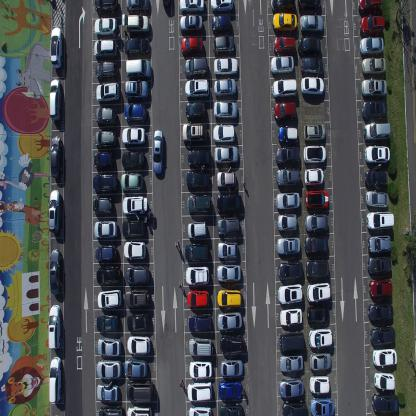car: (372, 390, 400, 414), (48, 355, 62, 403), (126, 379, 153, 402), (48, 77, 62, 121), (48, 303, 61, 350), (184, 77, 210, 100), (49, 247, 61, 296), (366, 209, 394, 230), (277, 282, 302, 305), (307, 281, 332, 304), (278, 330, 304, 352), (216, 192, 242, 214), (185, 168, 211, 190), (275, 166, 301, 188), (368, 302, 394, 324), (124, 288, 150, 310), (96, 288, 122, 310), (48, 189, 61, 233), (369, 325, 396, 346), (271, 12, 298, 33), (363, 144, 390, 165), (152, 128, 164, 175), (363, 121, 391, 141), (216, 214, 240, 237), (216, 260, 241, 282), (303, 234, 328, 256), (275, 190, 300, 212), (182, 122, 207, 144), (278, 259, 303, 281), (275, 145, 300, 167), (93, 37, 118, 59), (183, 55, 208, 77), (279, 378, 305, 399), (96, 358, 122, 379), (186, 380, 212, 401), (125, 57, 151, 78), (362, 100, 388, 121), (304, 190, 328, 212), (125, 263, 149, 285), (213, 99, 237, 121), (302, 144, 326, 166), (96, 264, 120, 286), (96, 81, 120, 103), (213, 77, 237, 99), (180, 34, 204, 56), (50, 25, 62, 69), (50, 134, 62, 178), (270, 54, 294, 76), (219, 332, 244, 353), (218, 379, 243, 400), (187, 147, 212, 168), (124, 79, 149, 100), (125, 12, 150, 33), (368, 278, 393, 299), (216, 286, 242, 306), (216, 309, 242, 329), (186, 192, 212, 212), (122, 194, 148, 214), (372, 347, 398, 367), (124, 36, 150, 56), (213, 56, 239, 76), (271, 78, 297, 98), (361, 78, 387, 98), (359, 14, 385, 34), (188, 310, 211, 332), (276, 235, 300, 256), (303, 213, 327, 234), (94, 219, 118, 240), (120, 171, 144, 192), (300, 75, 324, 96), (219, 357, 244, 377), (127, 333, 152, 353), (185, 262, 210, 282), (92, 172, 117, 192), (121, 126, 146, 146), (93, 16, 118, 36), (188, 336, 214, 355), (124, 101, 146, 123), (306, 304, 329, 325), (212, 34, 235, 55), (273, 101, 296, 122), (308, 328, 332, 348), (280, 354, 304, 374), (214, 145, 238, 165), (305, 258, 329, 278), (302, 122, 326, 142), (94, 105, 118, 125), (297, 35, 321, 55), (367, 233, 391, 253), (364, 168, 388, 188), (362, 56, 386, 76), (360, 36, 384, 56), (276, 213, 298, 234), (213, 124, 235, 145), (280, 306, 302, 327), (184, 100, 206, 121), (374, 369, 395, 391), (95, 127, 116, 149), (186, 286, 209, 306), (122, 218, 145, 238), (127, 312, 150, 332), (96, 313, 119, 333), (95, 60, 118, 80), (273, 34, 296, 54), (300, 13, 323, 33), (366, 189, 389, 209), (310, 396, 334, 415), (300, 55, 324, 74), (184, 242, 209, 260), (367, 255, 392, 273), (124, 239, 146, 259), (216, 168, 236, 190), (186, 219, 208, 239), (304, 166, 324, 188), (124, 357, 147, 376), (179, 13, 202, 32), (97, 336, 121, 354), (188, 360, 212, 378), (121, 150, 145, 168), (277, 124, 298, 144), (94, 150, 115, 170), (216, 239, 238, 258), (96, 382, 119, 400), (94, 244, 117, 262), (283, 400, 308, 416), (309, 352, 331, 370), (310, 375, 330, 394), (211, 12, 230, 32), (92, 196, 113, 214), (356, 0, 382, 13), (270, 0, 295, 13), (94, 0, 117, 14), (219, 402, 243, 415), (179, 0, 204, 12), (209, 0, 234, 12), (126, 0, 151, 12), (297, 0, 321, 12), (187, 404, 212, 415), (127, 405, 153, 415), (98, 405, 124, 415), (161, 0, 172, 8)
